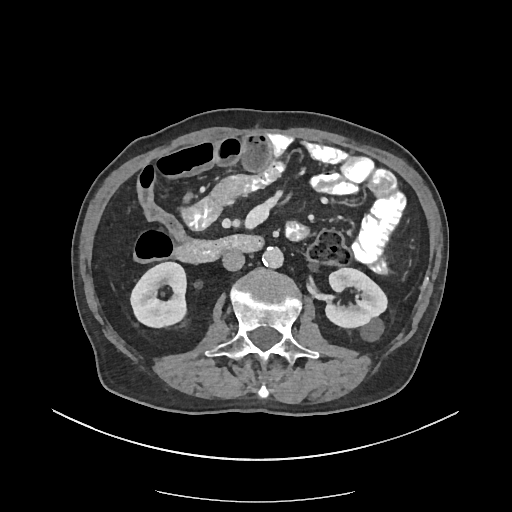Lesion: (356, 314, 387, 344)
